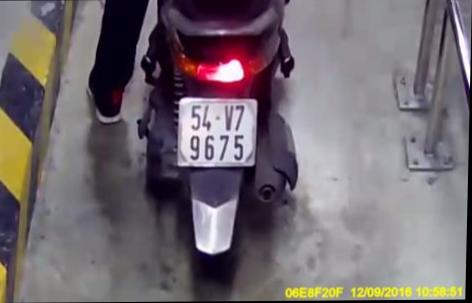LP: (178, 95, 259, 169)
